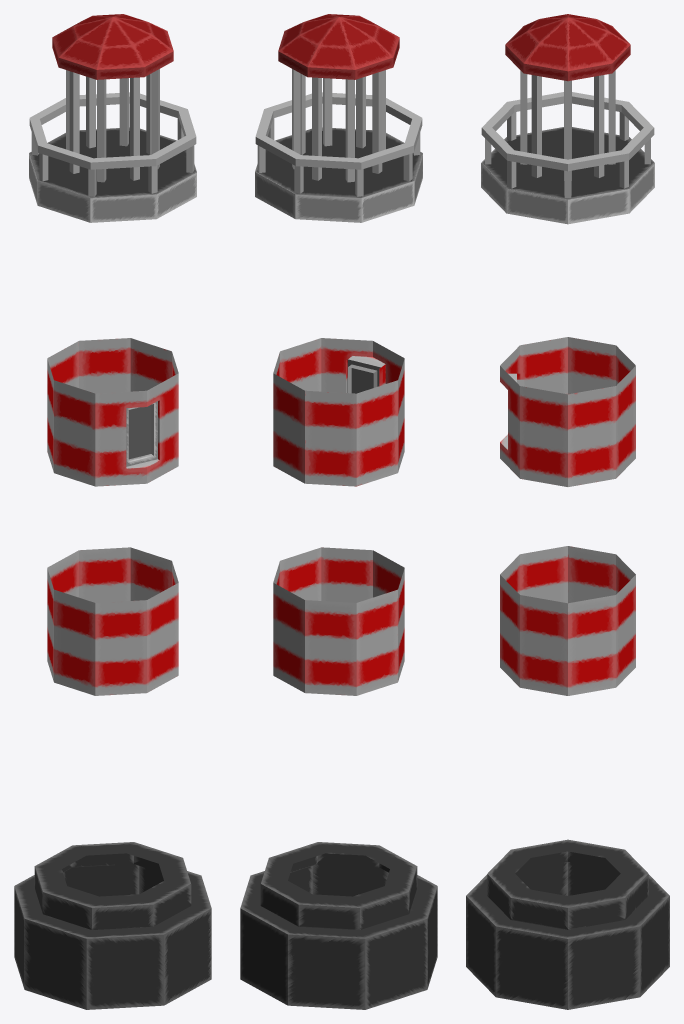
The model's file is light_house.obj.
3 renders of one model, left to right at view 1: azimuth 30°, elevation 25°; view 2: azimuth 150°, elevation 25°; view 3: azimuth 270°, elevation 25°, orthographic.
Visible parts, largest first — view 1: lh_base_Cylinder, lh_top_Cylinder.004, lh_mid_002_Cylinder.001, lh_mid_001_Cylinder.007; view 2: lh_base_Cylinder, lh_top_Cylinder.004, lh_mid_002_Cylinder.001, lh_mid_001_Cylinder.007; view 3: lh_base_Cylinder, lh_top_Cylinder.004, lh_mid_002_Cylinder.001, lh_mid_001_Cylinder.007.
Boxes of the visible parts, x1,y1,x2,y2 form: lh_base_Cylinder: [14, 842, 211, 1009]; lh_top_Cylinder.004: [29, 14, 196, 222]; lh_mid_002_Cylinder.001: [47, 547, 178, 695]; lh_mid_001_Cylinder.007: [47, 338, 178, 486]; lh_base_Cylinder: [240, 842, 437, 1009]; lh_top_Cylinder.004: [255, 14, 422, 222]; lh_mid_002_Cylinder.001: [273, 547, 404, 695]; lh_mid_001_Cylinder.007: [273, 338, 404, 486]; lh_base_Cylinder: [466, 839, 669, 1009]; lh_top_Cylinder.004: [481, 14, 654, 224]; lh_mid_002_Cylinder.001: [500, 546, 635, 695]; lh_mid_001_Cylinder.007: [500, 337, 635, 486].
Size of the model in its own units: 3 by 15.41 by 3.
